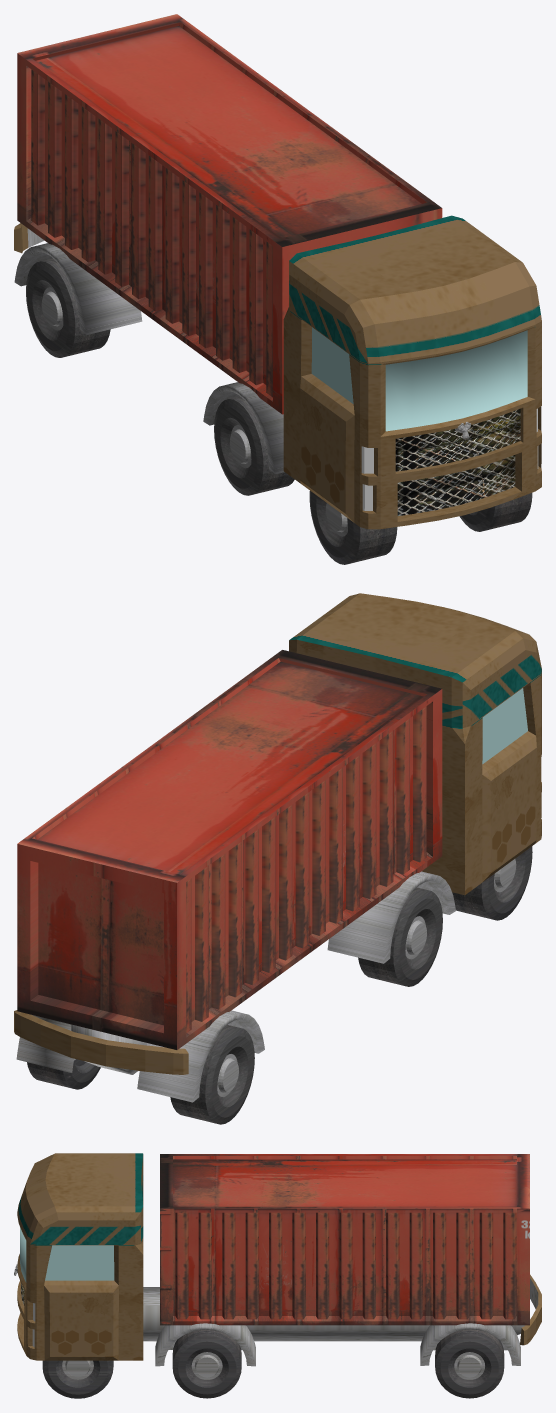
Rendered from Truck 5.fbx.
3 views of the same model, one above another, from view 1: azimuth 30°, elevation 25°; view 2: azimuth 150°, elevation 25°; view 3: azimuth 270°, elevation 25° (orthographic). The views are drawn at different scales.
Visible parts, largest first — view 1: Cube.003; view 2: Cube.003; view 3: Cube.003.
Boxes of the visible parts, <box> form: Cube.003: <box>14,14,541,564</box>; Cube.003: <box>14,593,541,1124</box>; Cube.003: <box>14,1153,541,1398</box>.
Size of the model in its own units: 539 by 734 by 1852.
